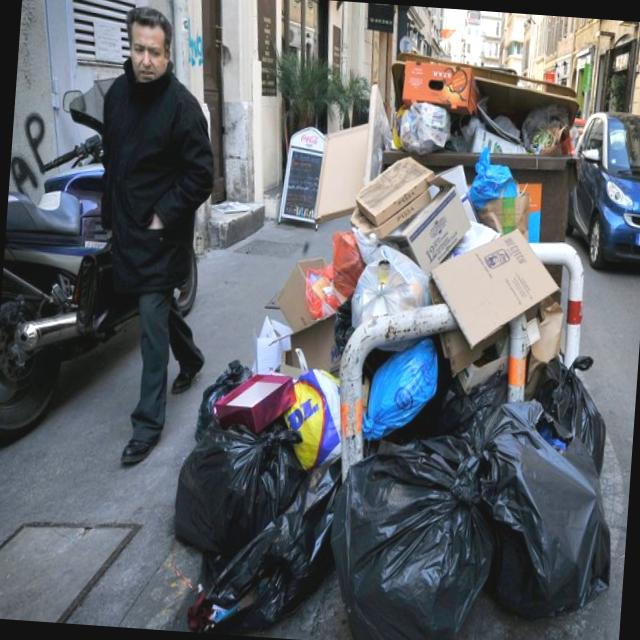garbage: (227, 24, 634, 640)
